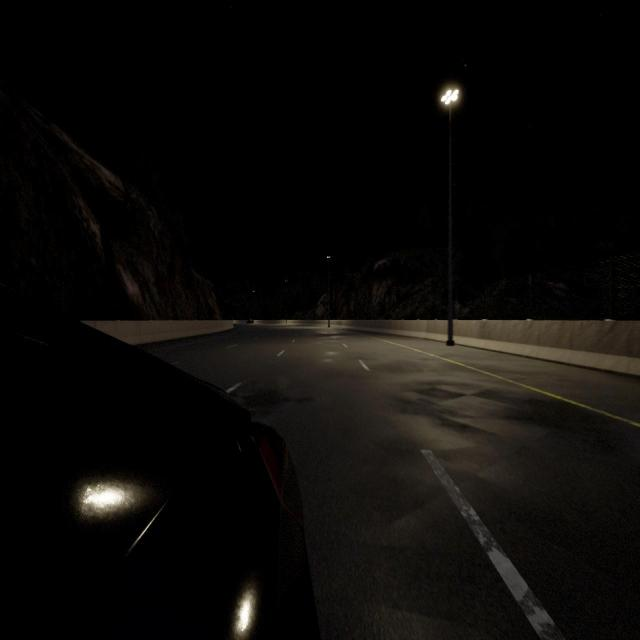Vehicle: (0, 289, 318, 640), (246, 318, 253, 324)
